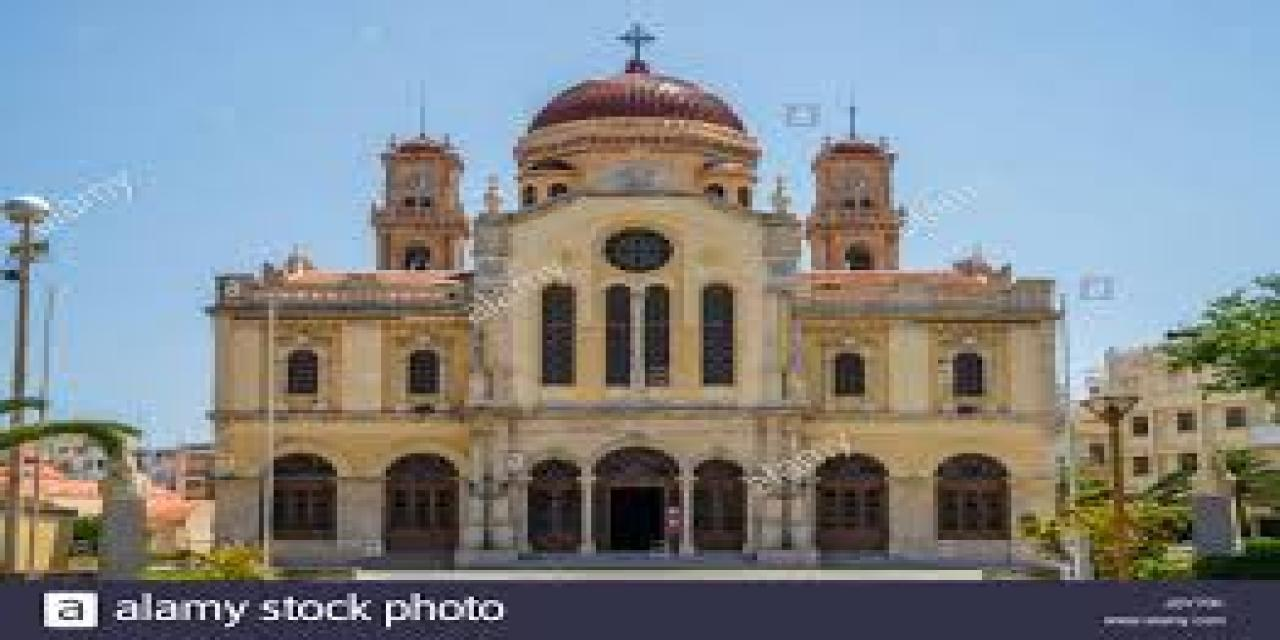Agios Minas: (212, 23, 1074, 570)
